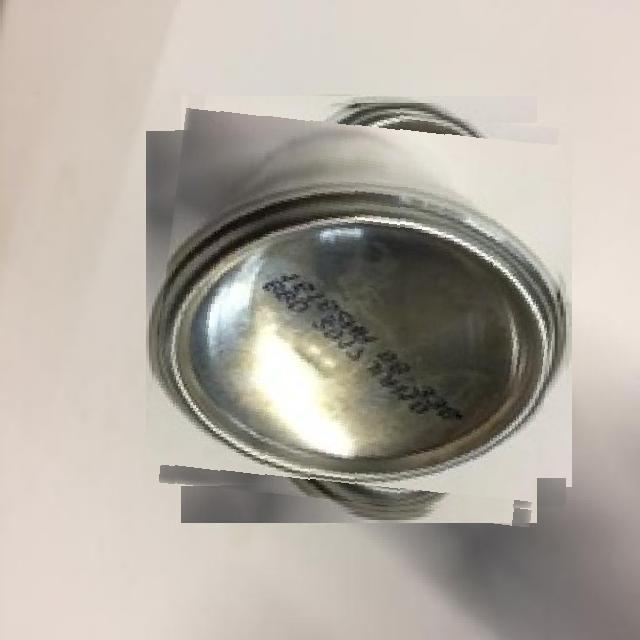recyclable: (152, 103, 566, 516)
